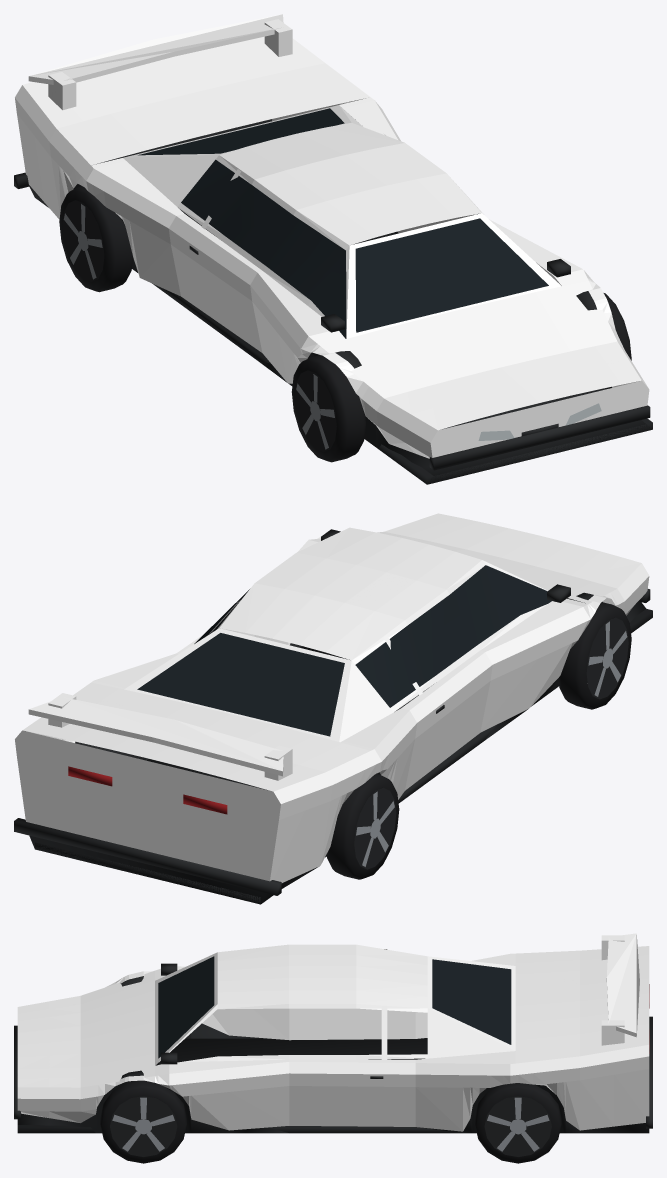
File: calderwood_cometa.glb
The picture shows the model from 3 angles, top to bottom: view 1: azimuth 30°, elevation 25°; view 2: azimuth 150°, elevation 25°; view 3: azimuth 270°, elevation 25°; orthographic projection. The views are drawn at different scales.
Visible parts, largest first — view 1: Body_Paint, Body_Details, Mount_FrontLeft_Wheel_Details, Mount_RearLeft_Wheel_Details; view 2: Body_Paint, Body_Details, Mount_RearLeft_Wheel_Details, Mount_FrontLeft_Wheel_Details; view 3: Body_Paint, Body_Details, Mount_FrontRight_Wheel_Details, Mount_RearRight_Wheel_Details.
Part boxes in pixels (x1,y1,x2,y2): Body_Paint: (15,14,649,458); Body_Details: (14,108,652,484); Mount_FrontLeft_Wheel_Details: (291,355,365,462); Mount_RearLeft_Wheel_Details: (59,186,133,292); Body_Paint: (15,513,649,882); Body_Details: (14,529,652,904); Mount_RearLeft_Wheel_Details: (326,774,399,879); Mount_FrontLeft_Wheel_Details: (558,602,631,709); Body_Paint: (17,933,649,1131); Body_Details: (14,956,652,1133); Mount_FrontRight_Wheel_Details: (100,1080,186,1163); Mount_RearRight_Wheel_Details: (475,1083,561,1163).
Size of the model in its own units: 2.16 by 1.18 by 5.01.
2 materials, 1 textured.
